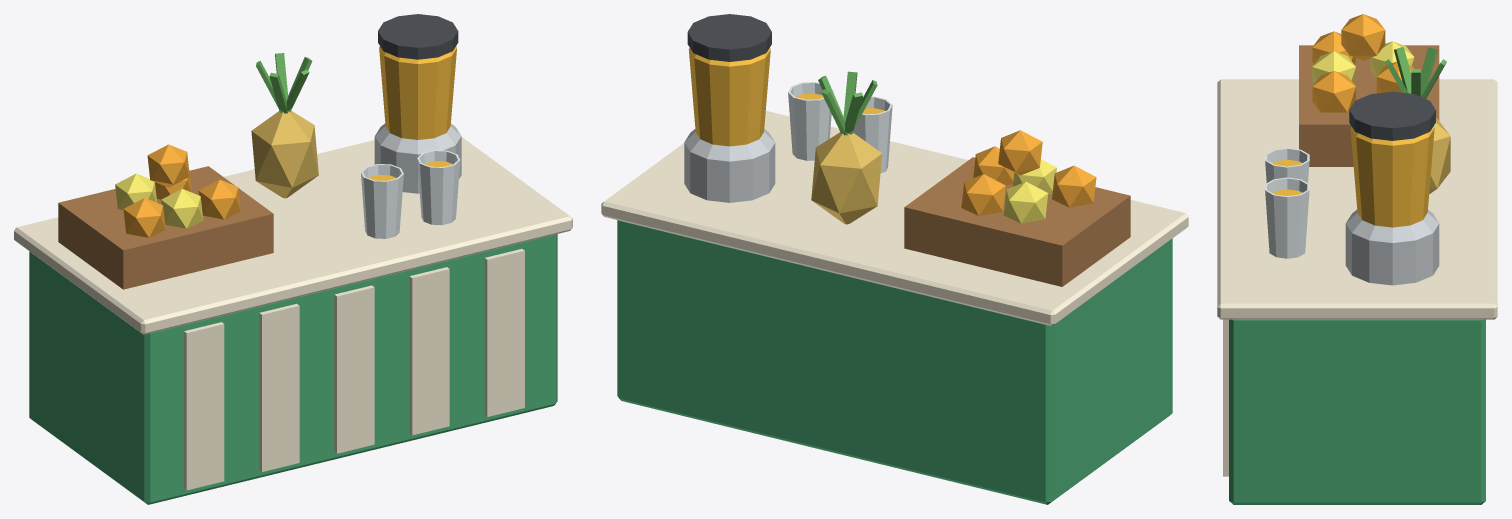
File: juice-bar.glb
3 renders of one model, left to right at view 1: azimuth 30°, elevation 25°; view 2: azimuth 150°, elevation 25°; view 3: azimuth 270°, elevation 25°, orthographic. The views are drawn at different scales.
Parts seen in each view (by area): view 1: juice-bar; view 2: juice-bar; view 3: juice-bar.
Boxes of the visible parts, x1,y1,x2,y2 form: juice-bar: (14, 14, 572, 504); juice-bar: (601, 14, 1188, 504); juice-bar: (1217, 14, 1497, 504).
Bounding box in the file's own units: 0.46 × 0.342 × 0.24.
